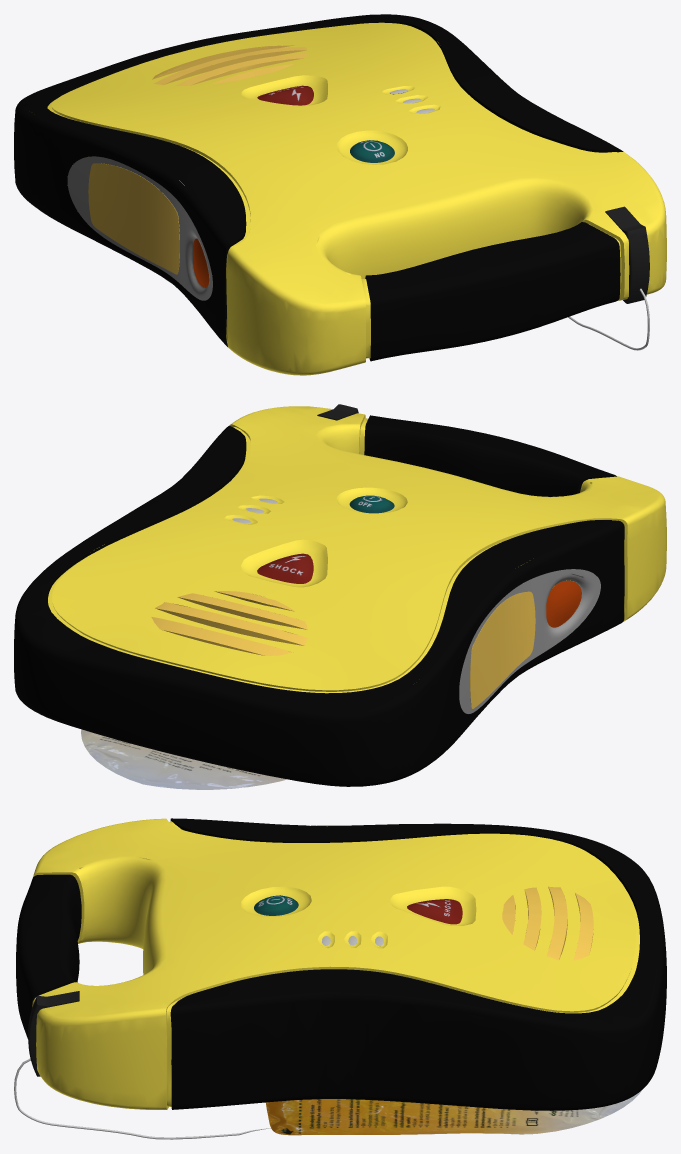
File: AED.fbx
3 renders of one model, top to bottom at view 1: azimuth 30°, elevation 25°; view 2: azimuth 150°, elevation 25°; view 3: azimuth 270°, elevation 25°, orthographic.
Parts seen in each view (by area): view 1: body, rubber, battery, batt_holder, grill, plug, button_green, button_red, button_orange; view 2: body, rubber, grill, electrode, battery, batt_holder, button_orange, button_red, button_green; view 3: body, rubber, electrode, grill, plug, button_red, Loft01, button_green.
Part boxes in pixels (bbox=[...]): body: bbox=[47, 22, 666, 375]; rubber: bbox=[14, 14, 623, 361]; battery: bbox=[88, 102, 429, 274]; batt_holder: bbox=[67, 156, 367, 300]; grill: bbox=[152, 45, 308, 85]; plug: bbox=[605, 206, 649, 303]; button_green: bbox=[350, 140, 394, 162]; button_red: bbox=[257, 85, 313, 105]; button_orange: bbox=[193, 238, 209, 287]; body: bbox=[48, 406, 666, 693]; rubber: bbox=[14, 415, 624, 786]; grill: bbox=[151, 591, 308, 655]; electrode: bbox=[81, 729, 286, 789]; battery: bbox=[470, 591, 535, 708]; batt_holder: bbox=[459, 569, 600, 713]; button_orange: bbox=[546, 580, 581, 627]; button_red: bbox=[257, 553, 313, 583]; button_green: bbox=[349, 495, 394, 513]; body: bbox=[32, 818, 639, 1109]; rubber: bbox=[16, 818, 666, 1110]; electrode: bbox=[265, 1090, 641, 1135]; grill: bbox=[502, 886, 593, 960]; plug: bbox=[28, 991, 79, 1076]; button_red: bbox=[407, 899, 462, 924]; Loft01: bbox=[14, 1058, 270, 1139]; button_green: bbox=[254, 895, 298, 915].
Size of the model in its own units: 54.33 by 21.99 by 76.55.
